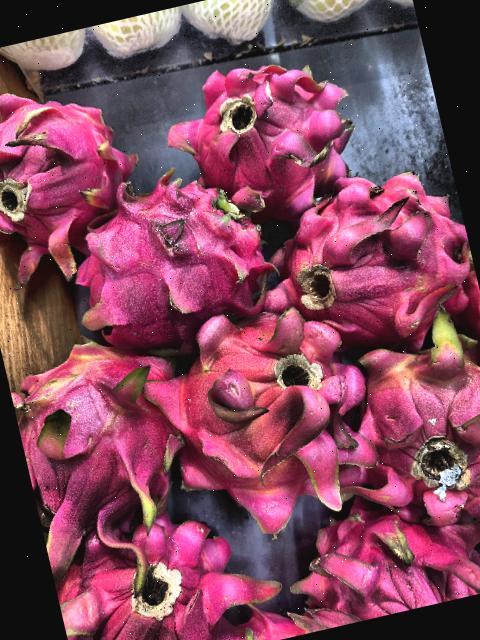buah-naga-belum-matang: (1, 314, 212, 564)
buah-naga-matang: (132, 283, 398, 534), (153, 18, 372, 230), (249, 157, 474, 355), (54, 160, 274, 354), (44, 490, 294, 640), (276, 477, 480, 634), (341, 307, 480, 535), (0, 62, 156, 263)
